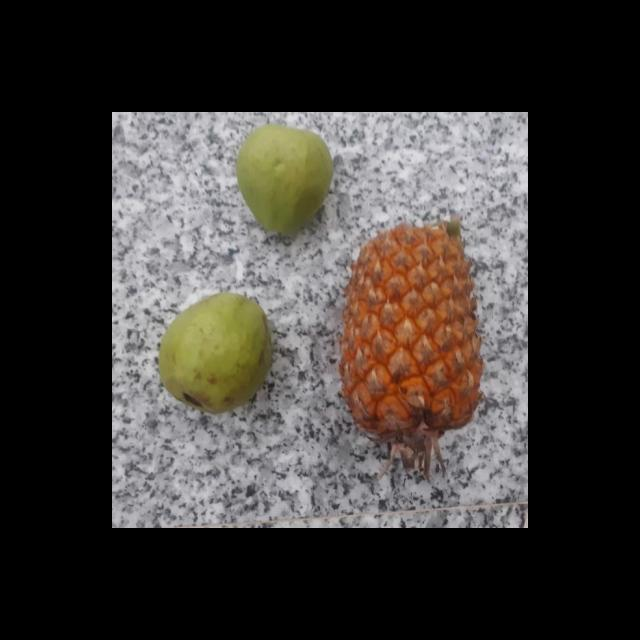guava: (161, 297, 280, 412), (235, 123, 337, 235)
pineapple: (338, 216, 485, 446)
